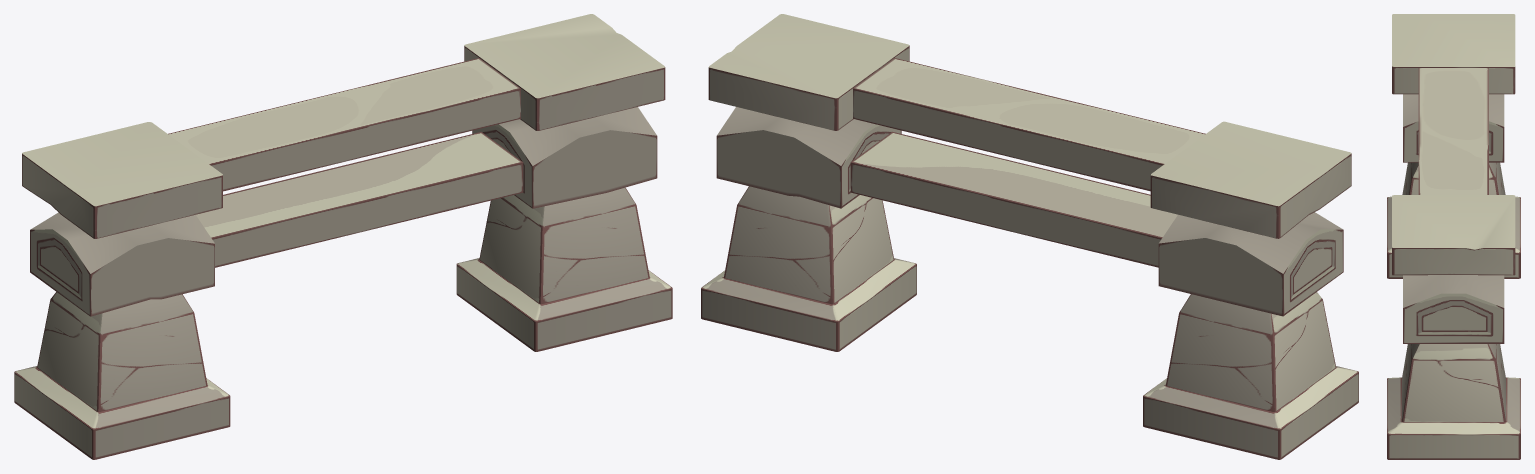
File: Mesh_Home_B_Idyll_19_SM.fbx
3 renders of one model, left to right at view 1: azimuth 30°, elevation 25°; view 2: azimuth 150°, elevation 25°; view 3: azimuth 270°, elevation 25°, orthographic. The views are drawn at different scales.
Visible parts, largest first — view 1: Mesh_Home_B_Idyll_19; view 2: Mesh_Home_B_Idyll_19; view 3: Mesh_Home_B_Idyll_19.
Part boxes in pixels (left/top/right/bottom): Mesh_Home_B_Idyll_19: left=14, top=14, right=672, bottom=459; Mesh_Home_B_Idyll_19: left=701, top=14, right=1358, bottom=459; Mesh_Home_B_Idyll_19: left=1387, top=14, right=1520, bottom=459.
Bounding box in the file's own units: 39.37 × 16.23 × 9.37.
